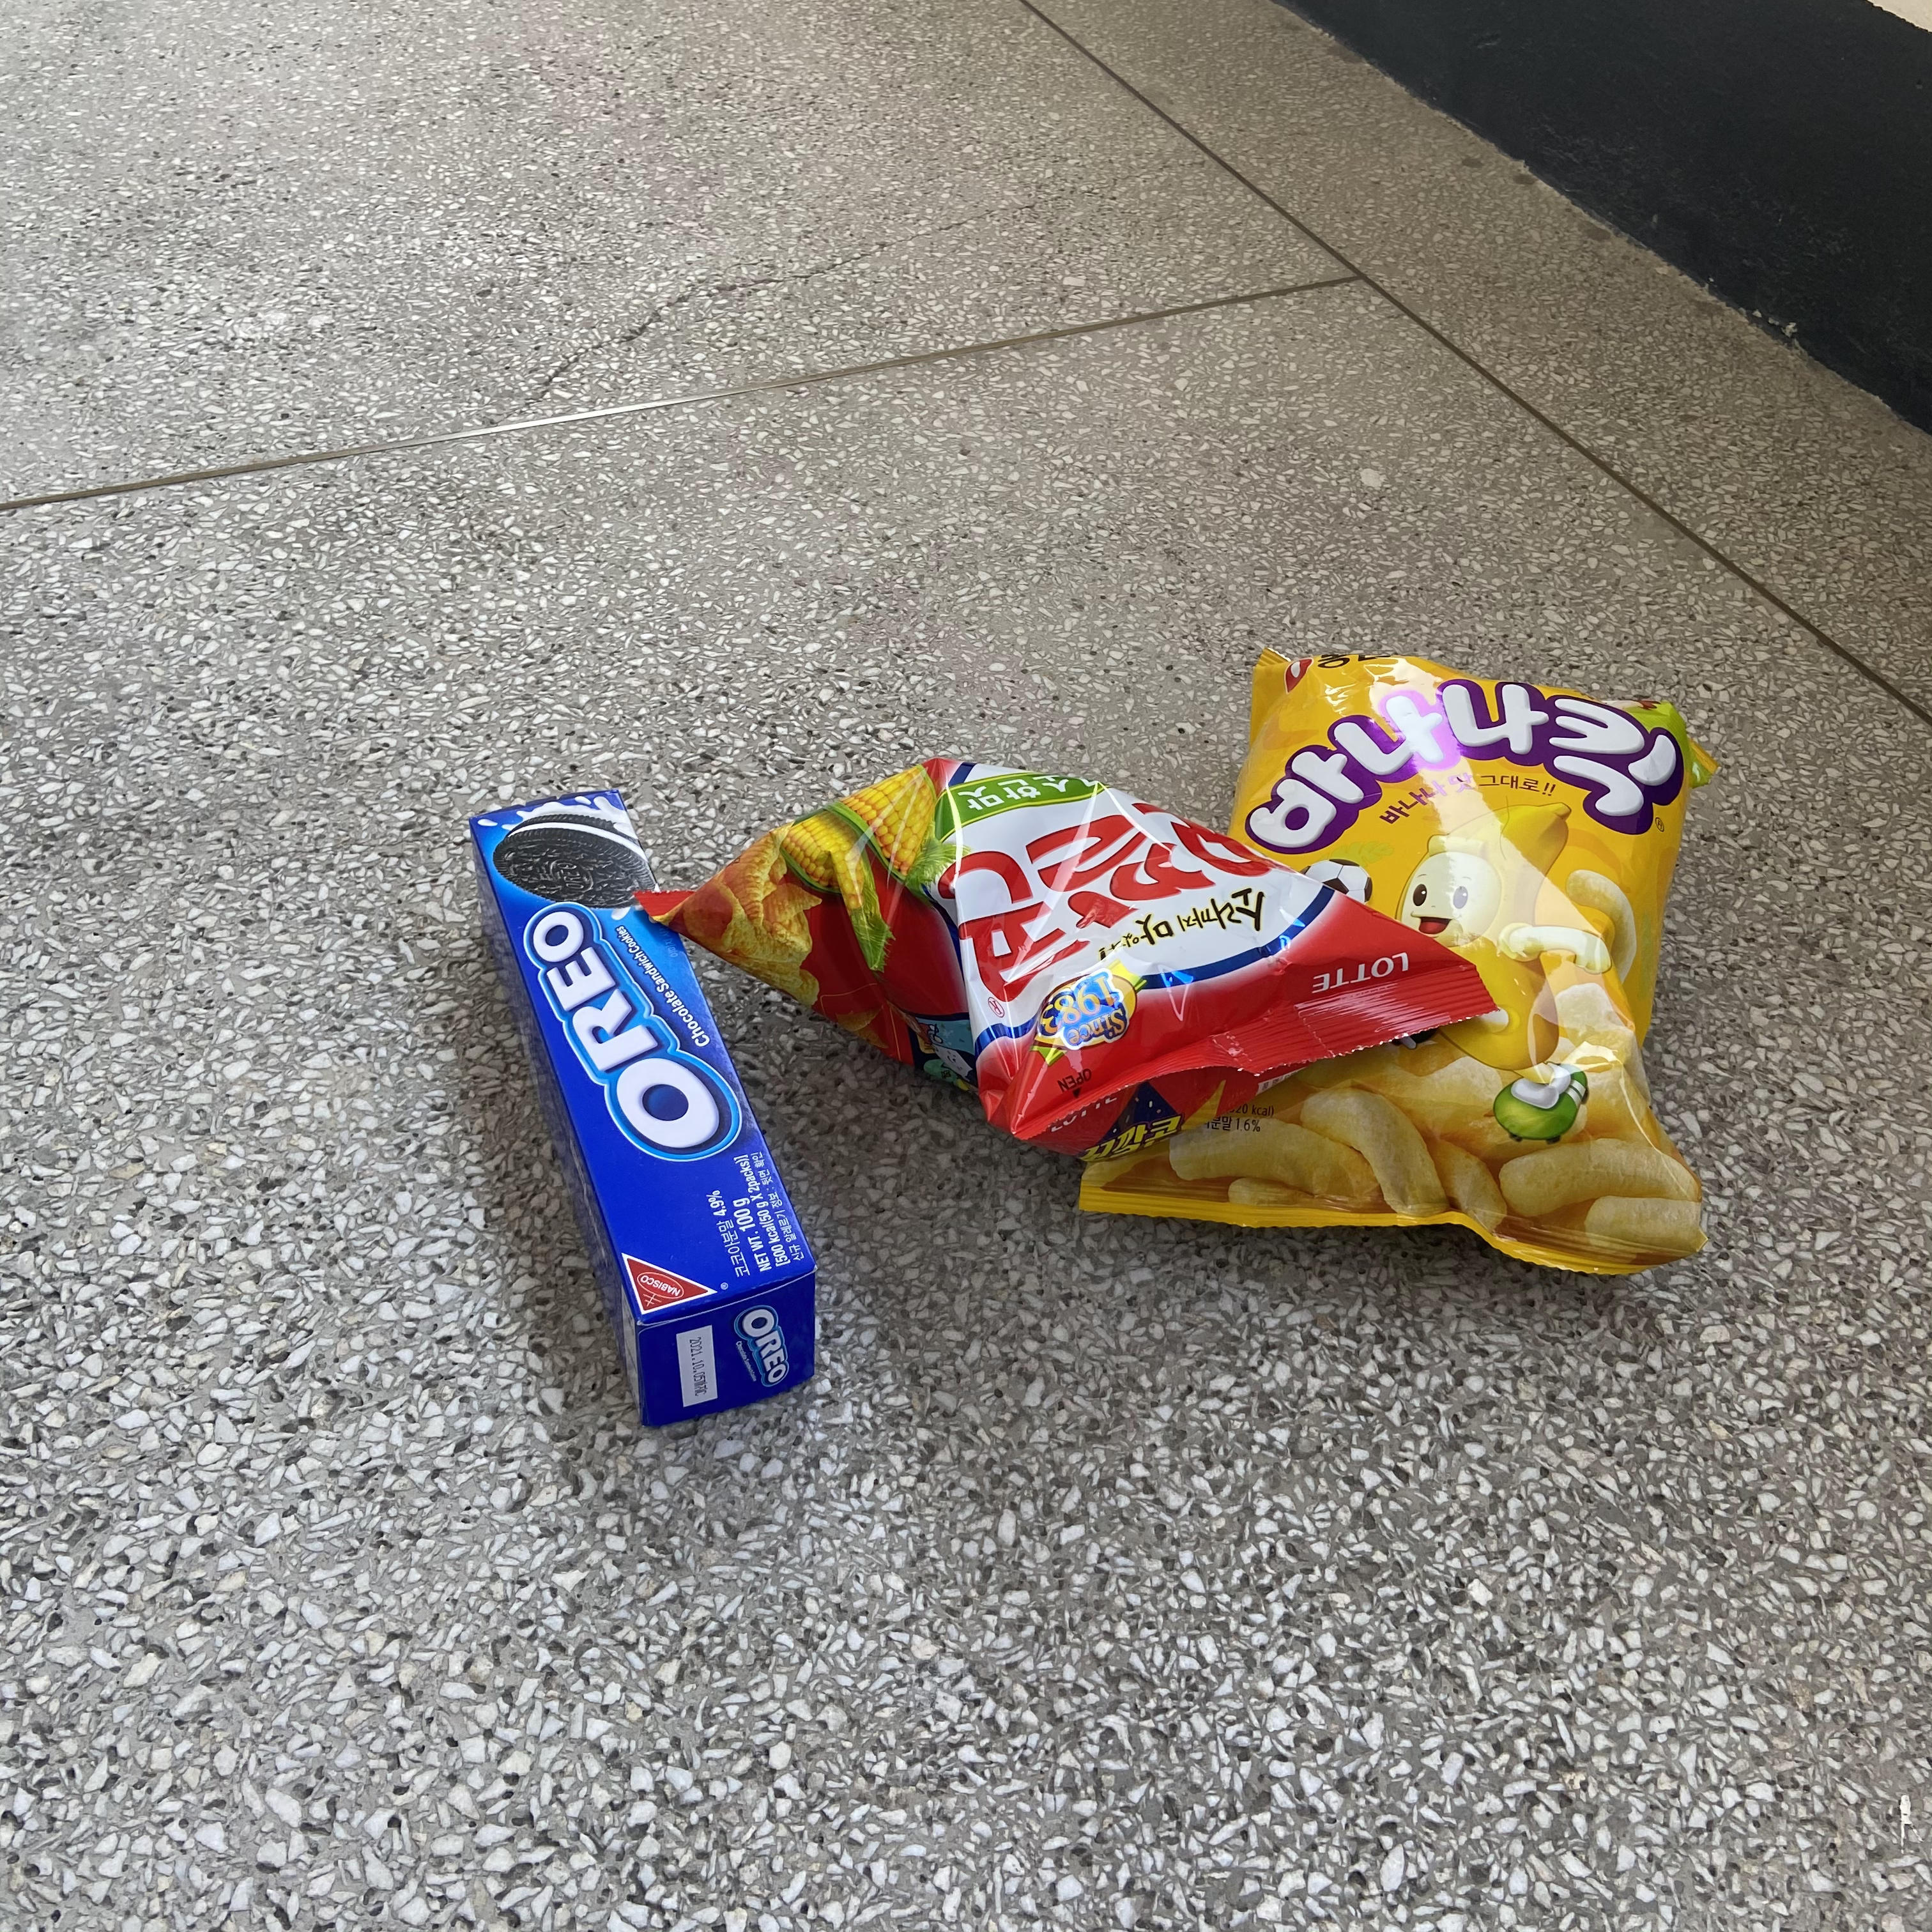banana: (1065, 635, 1709, 1290)
ggoggalcon: (619, 752, 1500, 1180)
oreo: (449, 786, 824, 1428)
